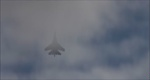maybay_muctieu: (44, 31, 63, 57)
